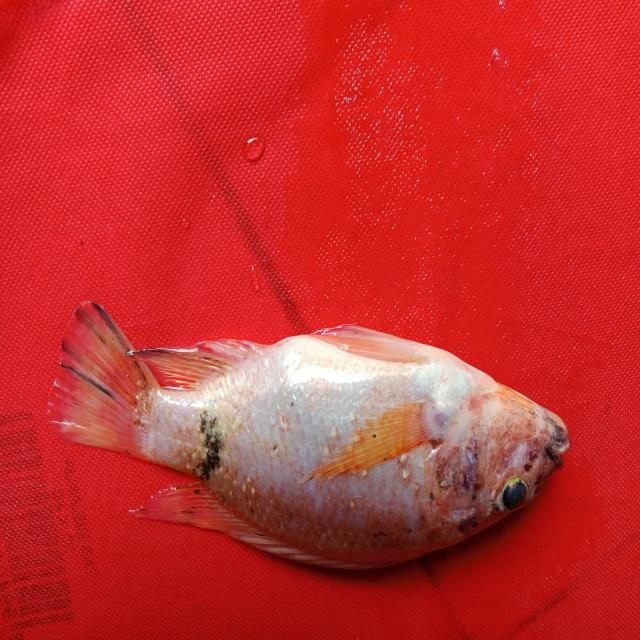ikan: (47, 299, 571, 572)
